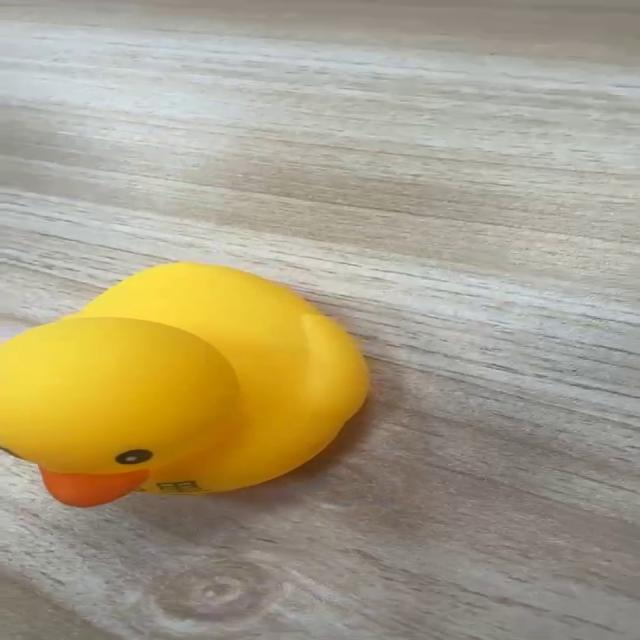yellow_duck: (1, 260, 371, 508)
